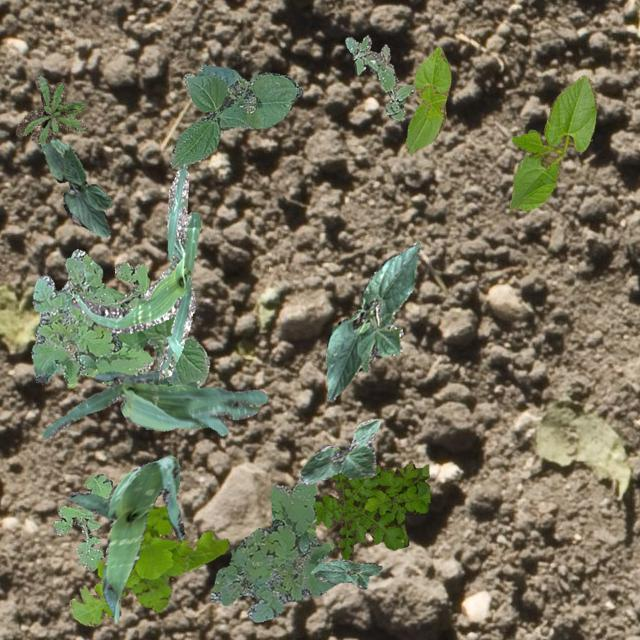crop: (70, 162, 200, 378), (66, 454, 184, 620), (324, 240, 420, 400), (42, 370, 266, 438), (170, 64, 300, 166), (508, 74, 596, 210), (109, 288, 209, 388), (40, 136, 110, 236), (298, 418, 378, 484), (404, 46, 450, 154), (309, 558, 382, 588)
weed: (68, 504, 228, 624), (210, 480, 336, 620), (31, 248, 152, 386), (312, 460, 429, 560), (344, 34, 414, 120), (52, 474, 111, 570), (15, 74, 86, 142), (88, 260, 148, 308)
